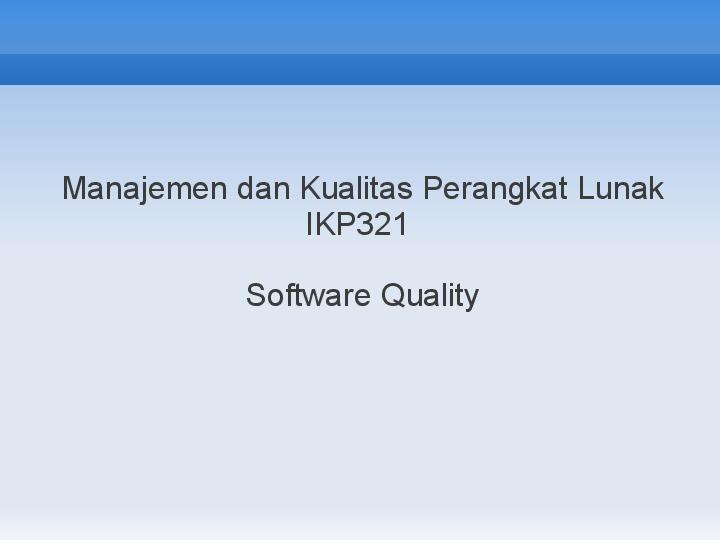title: (52, 164, 698, 334)
